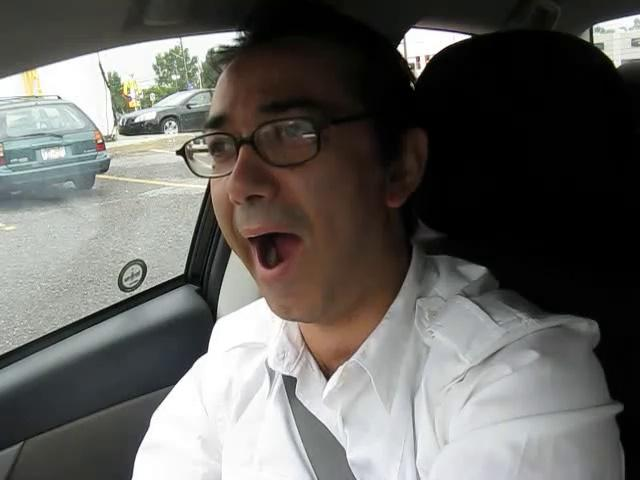open_eyeL: (178, 128, 249, 176)
open_eyeR: (249, 107, 339, 164)
yawn: (226, 213, 323, 288)
